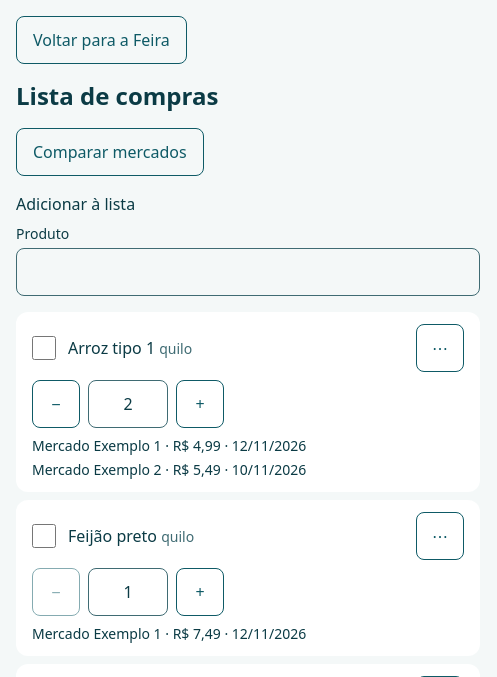
it: ShoppingListPage › addRefusalSaysWhy list.full
Expected: the text "Arroz tipo 1" is shown, [68, 337, 155, 359]
Type "leite" into the field labelled "Produto".
click(248, 272); type("leite")  # box [16, 248, 480, 296]
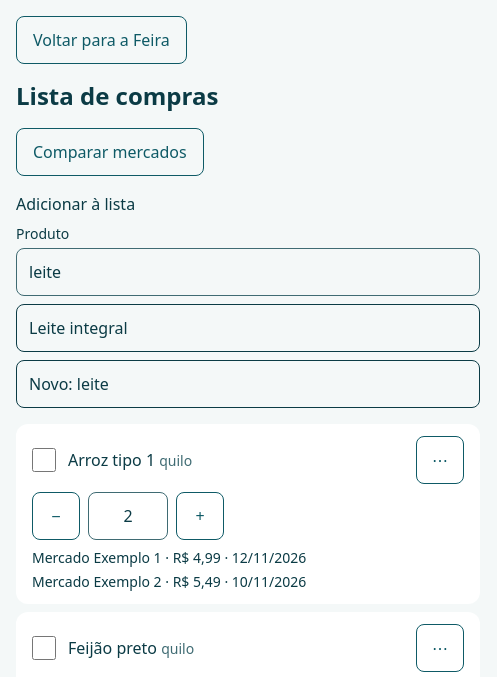
Click the button "Leite integral".
click(78, 328)  # box [16, 304, 480, 352]
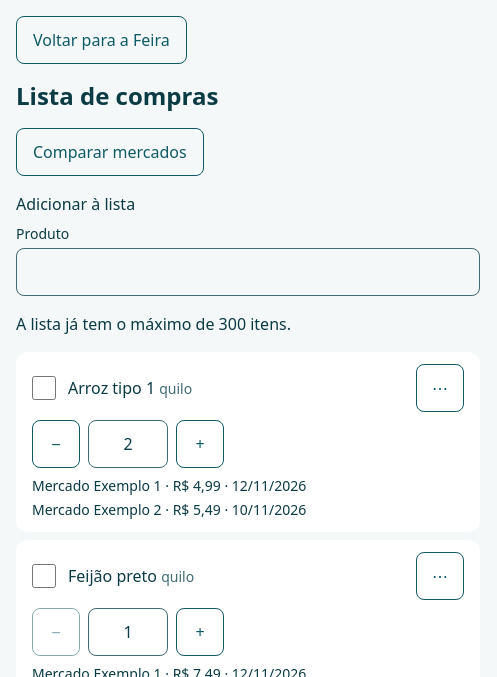
Now the text "A lista já tem o máximo de 300 itens." is shown, box [16, 313, 291, 335]
